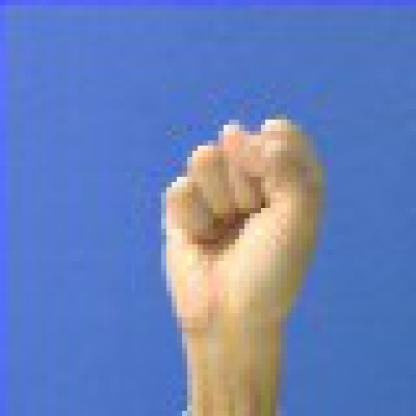zero: (134, 94, 358, 347)
